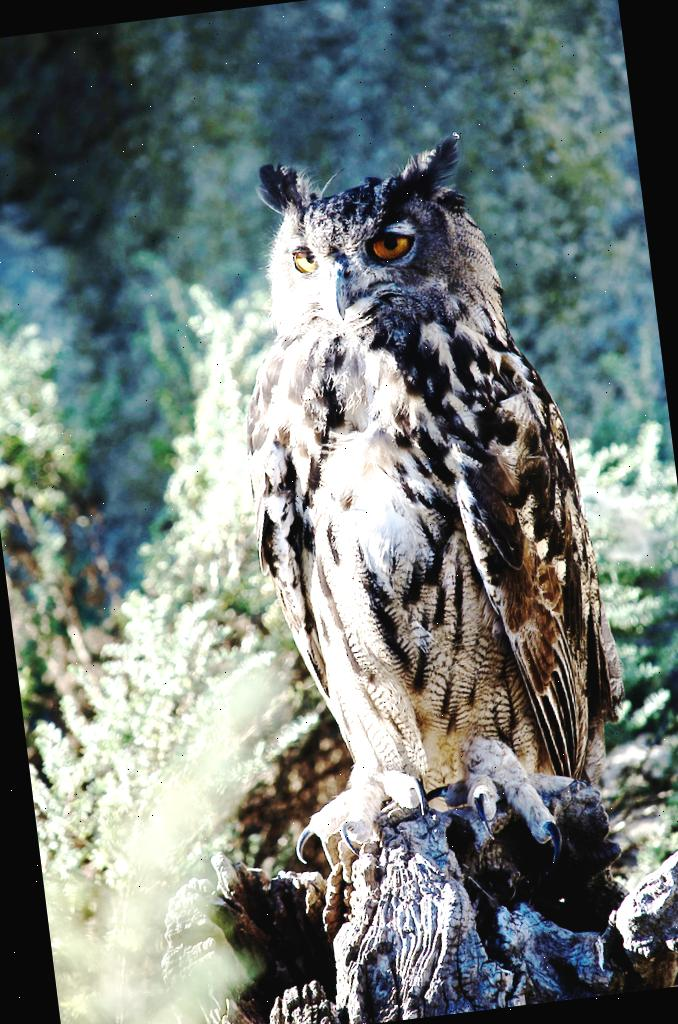Owl: (191, 109, 654, 882)
